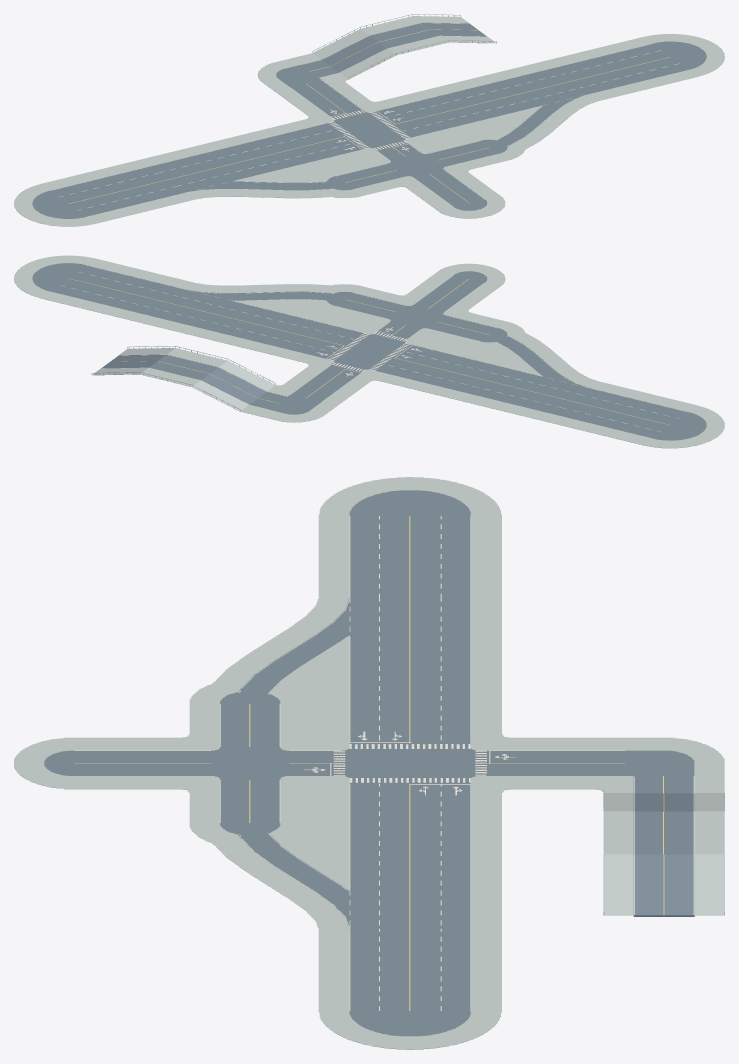
The model's file is network-w78-s78.glb.
3 renders of one model, top to bottom at view 1: azimuth 30°, elevation 25°; view 2: azimuth 150°, elevation 25°; view 3: azimuth 270°, elevation 25°, orthographic. The views are drawn at different scales.
Parts seen in each view (by area): view 1: Road_surface, Sidewalks, Lane_markings, Ramp_surface, Crosswalks, Bridge_railings; view 2: Road_surface, Sidewalks, Lane_markings, Ramp_surface, Crosswalks, Bridge_railings; view 3: Road_surface, Sidewalks, Ramp_surface, Lane_markings, Crosswalks.
Part boxes in pixels (left/top/right/bottom): Road_surface: left=32, top=23, right=706, bottom=218; Sidewalks: left=14, top=16, right=724, bottom=226; Lane_markings: left=51, top=23, right=679, bottom=210; Ramp_surface: left=322, top=23, right=486, bottom=72; Crosswalks: left=328, top=110, right=410, bottom=150; Bridge_railings: left=312, top=14, right=496, bottom=78; Road_surface: left=32, top=263, right=706, bottom=440; Sidewalks: left=14, top=255, right=724, bottom=448; Lane_markings: left=60, top=265, right=687, bottom=431; Ramp_surface: left=101, top=355, right=266, bottom=404; Crosswalks: left=328, top=331, right=410, bottom=372; Bridge_railings: left=91, top=346, right=275, bottom=410; Road_surface: left=44, top=490, right=694, bottom=1036; Sidewalks: left=14, top=477, right=724, bottom=1049; Ramp_surface: left=633, top=793, right=694, bottom=916; Lane_markings: left=75, top=516, right=694, bottom=1010; Crosswalks: left=333, top=744, right=486, bottom=782.
Bounding box in the file's own units: 347 × 7.51 × 182.
